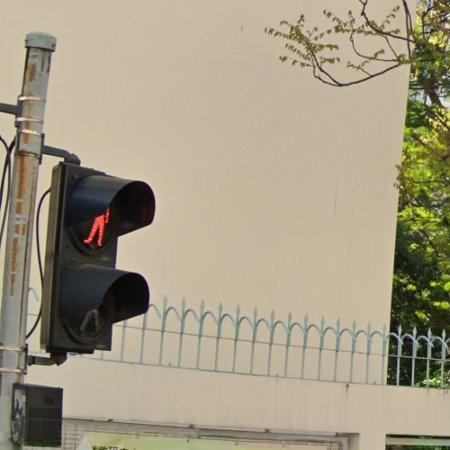traffic lights: (43, 159, 157, 362)
